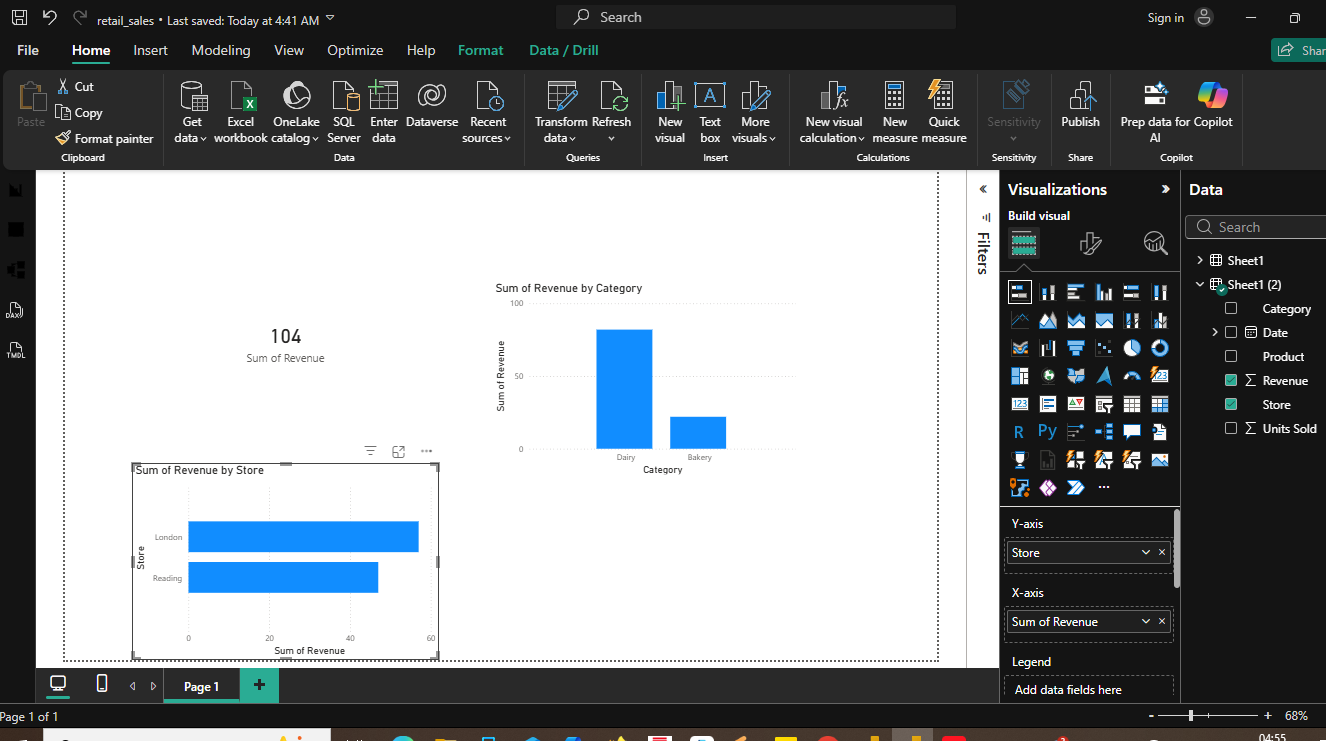

Layout of this report page (visuals, bound fields, positions):
{"tool":"powerbi","page":{"name":"Page 1","canvas":[1280,720],"ordinal":0},"visuals":[{"type":"card","fields":{"Values":["Fact_Sales.Total Revenue"]},"box":[98.4,82.3,451.1,339.4],"z":0},{"type":"columnChart","fields":{"Category":["Sheet1 (2).Category","Dim_Product.Product"],"Y":["Fact_Sales.Total Units Sold"],"Series":["Sheet2.Product"],"Rows":["Dim_Product.Category"]},"box":[627.4,163.1,451.1,289.5],"z":1},{"type":"barChart","fields":{"Y":["Fact_Sales.Total Revenue"],"Series":["Dim_Store.Store"]},"box":[98,431,451,289],"z":2},{"type":"cardVisual","fields":{"Data":["Fact_Sales.Revenue per Unit"]},"box":[627,452,451,268],"z":3},{"type":"advancedSlicerVisual","fields":{"Values":["Dim_Store.Store"],"Label":["Min(Dim_Product.Category)"]},"box":[953.5,47.5,326.5,150],"z":4}]}

Visuals, with their boxes in screenshot pixels (x1, y1, x2, y2):
card - Fact_Sales.Total Revenue: 34, 39, 477, 372
columnChart - Sheet1 (2).Category x Dim_Product.Product: 553, 119, 996, 402
barChart - Fact_Sales.Total Revenue x Dim_Store.Store: 34, 381, 476, 665
cardVisual - Fact_Sales.Revenue per Unit: 553, 402, 995, 665
advancedSlicerVisual - Dim_Store.Store x Min(Dim_Product.Category): 873, 5, 1193, 152
